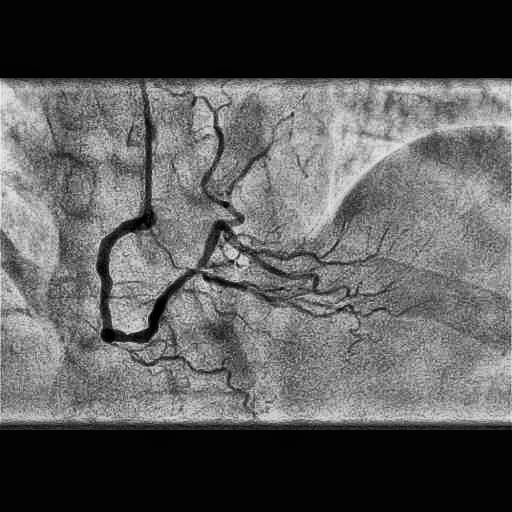pborca: (196, 220, 350, 297)
pda: (196, 271, 360, 331)
rca: (96, 216, 196, 343)
